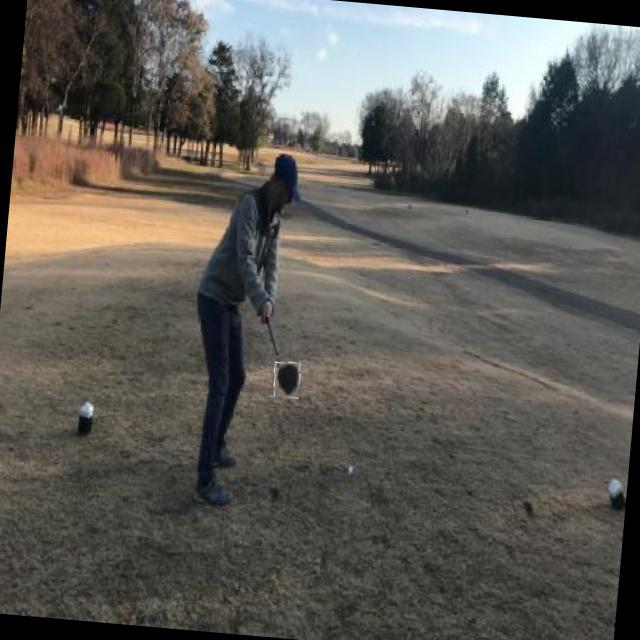club head: (272, 362, 300, 398)
